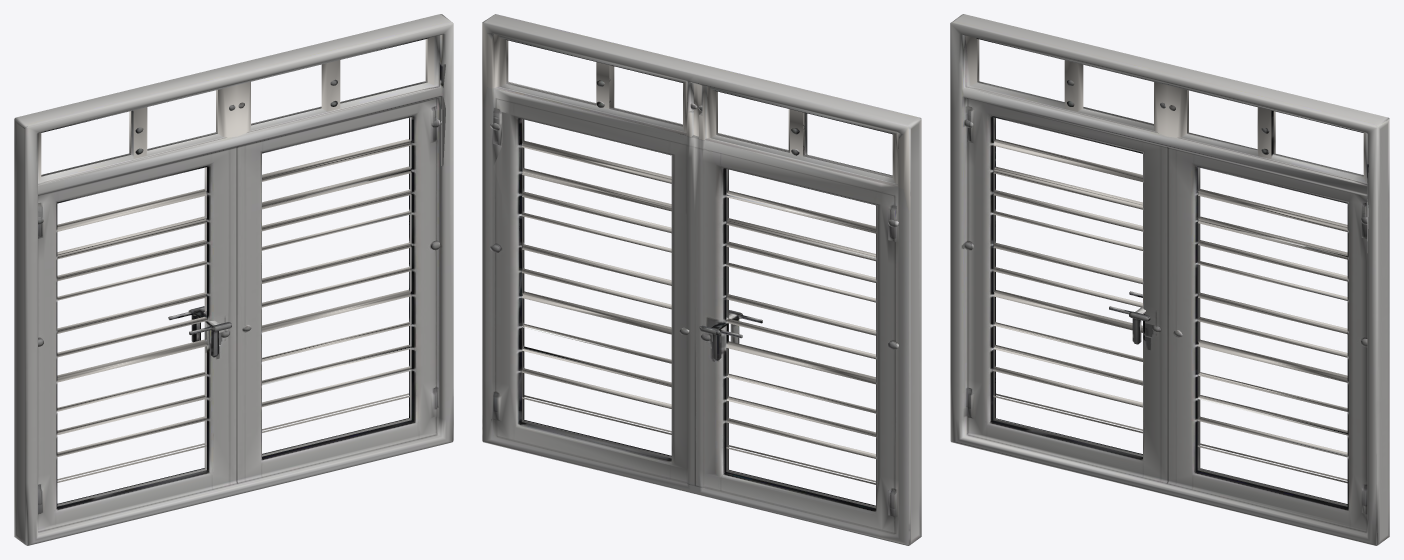
The model's file is FrontDoor.fbx.
The picture shows the model from 3 angles, left to right: view 1: azimuth 30°, elevation 25°; view 2: azimuth 150°, elevation 25°; view 3: azimuth 330°, elevation 25°; orthographic projection.
Parts seen in each view (by area): view 1: FrontDoor; view 2: FrontDoor; view 3: FrontDoor.
Part boxes in pixels (<box>): FrontDoor: <box>14,14,453,545</box>; FrontDoor: <box>482,14,921,545</box>; FrontDoor: <box>950,14,1389,545</box>.
Bounding box in the file's own units: 383 × 360 × 39.27.
2 materials, 1 textured.
